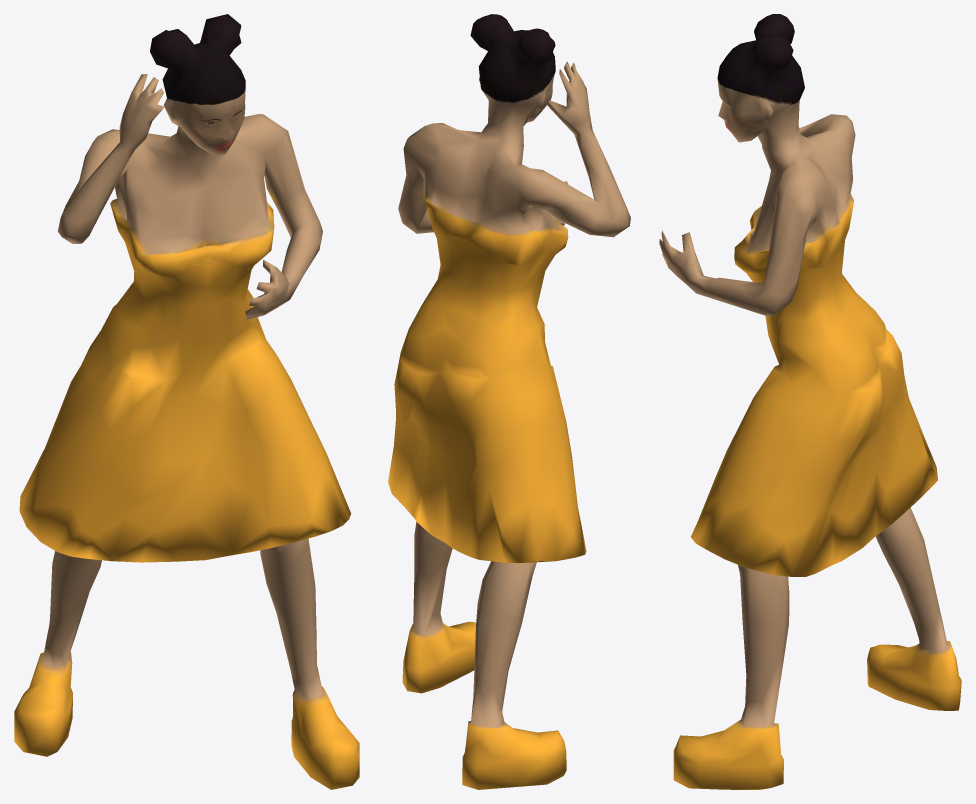
The model's file is female-b-idle-near.glb.
The picture shows the model from 3 angles, left to right: view 1: azimuth 30°, elevation 25°; view 2: azimuth 150°, elevation 25°; view 3: azimuth 270°, elevation 25°; orthographic projection. The views are drawn at different scales.
Visible parts, largest first — view 1: crowd; view 2: crowd; view 3: crowd.
Boxes of the visible parts, <box> form: crowd: <box>14,14,359,789</box>; crowd: <box>388,14,630,789</box>; crowd: <box>659,14,961,789</box>.
Bounding box in the file's own units: 0.6363 × 1.72 × 0.6619.
1 material, 1 textured.
